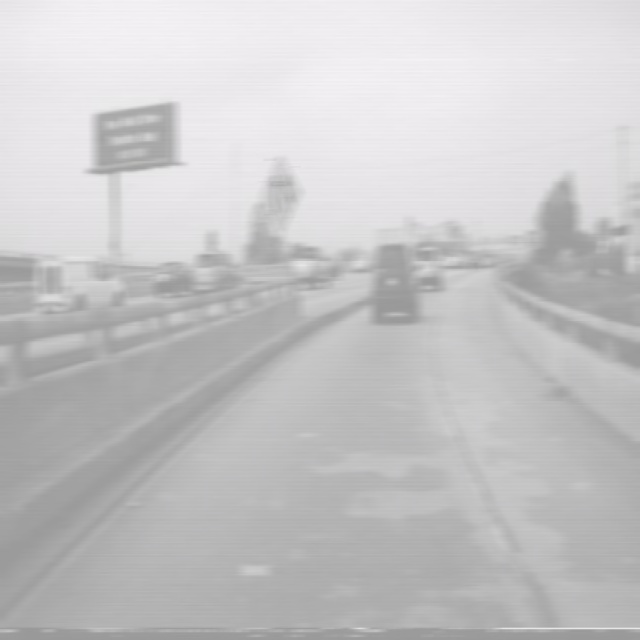addedLane: (260, 154, 300, 233)
